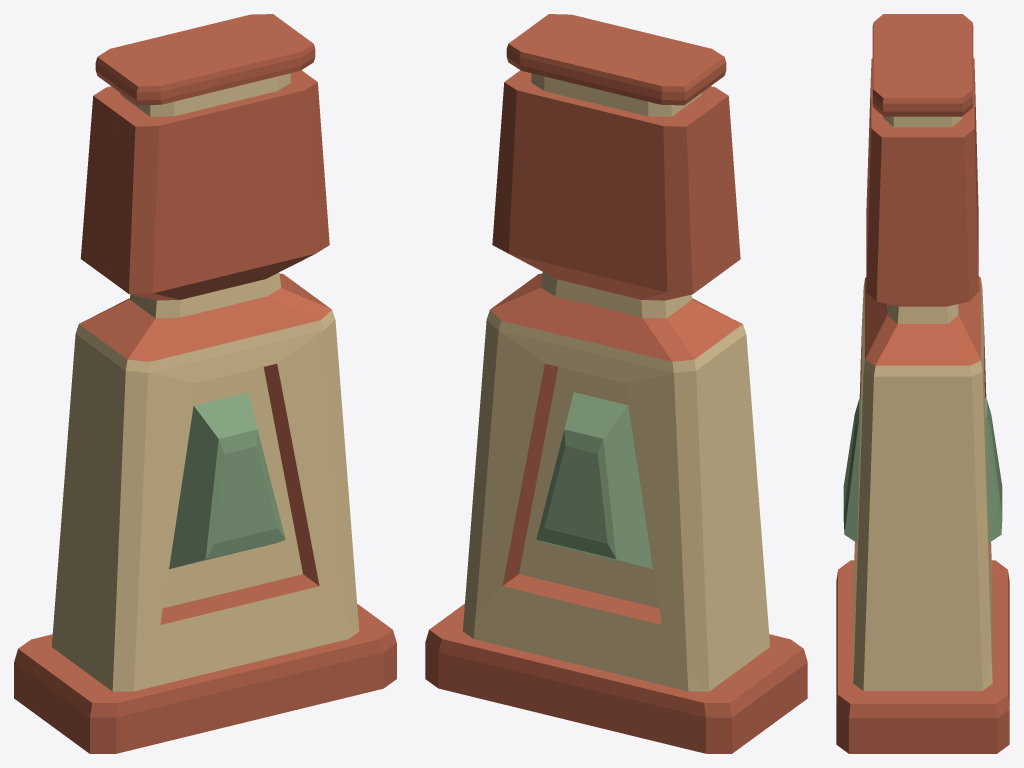
Rendered from EnemyTowerShort.fbx.
The picture shows the model from 3 angles, left to right: view 1: azimuth 30°, elevation 25°; view 2: azimuth 150°, elevation 25°; view 3: azimuth 270°, elevation 25°; orthographic projection. The views are drawn at different scales.
Visible parts, largest first — view 1: Cube; view 2: Cube; view 3: Cube.
Boxes of the visible parts, x1,y1,x2,y2 form: Cube: [14, 14, 396, 753]; Cube: [425, 14, 807, 753]; Cube: [836, 14, 1009, 753].
Bounding box in the file's own units: 498 × 990 × 249.
